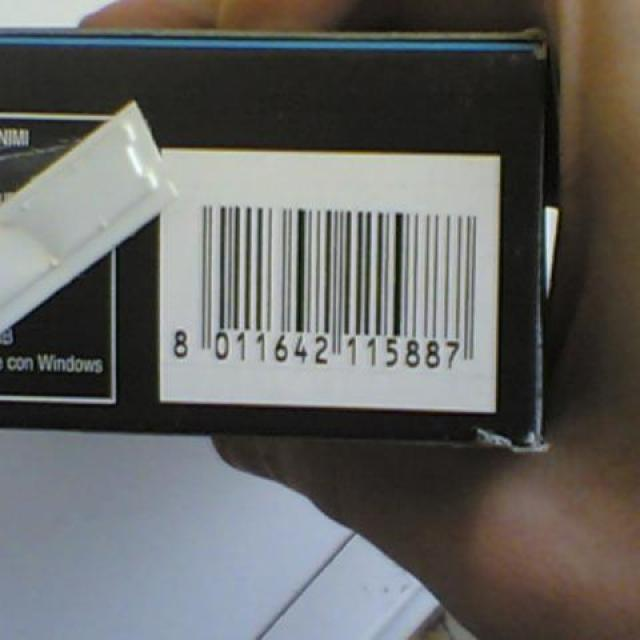Barcode: (160, 146, 501, 413)
